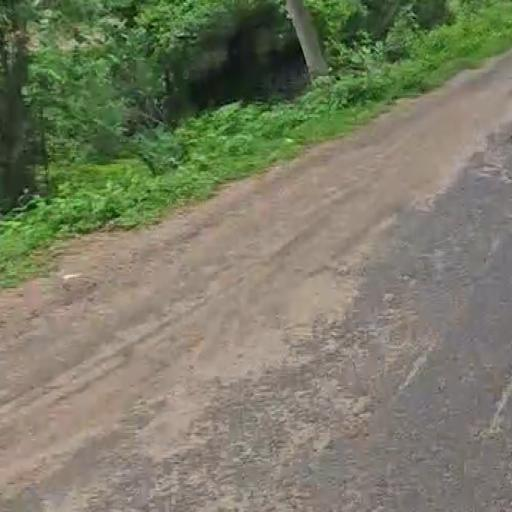ravelling: (133, 285, 395, 496)
